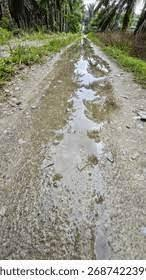Stagnant water: (35, 8, 130, 280)
